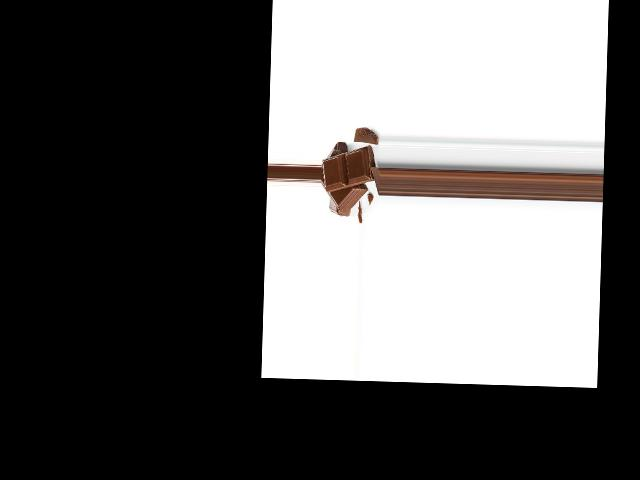chocolate: (323, 146, 374, 193)
